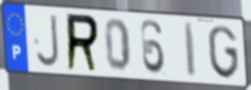0: (103, 17, 133, 75)
6: (140, 18, 166, 78)
G: (206, 23, 242, 81)
I: (183, 21, 198, 80)
J: (34, 13, 62, 70)
R: (65, 12, 101, 74)
